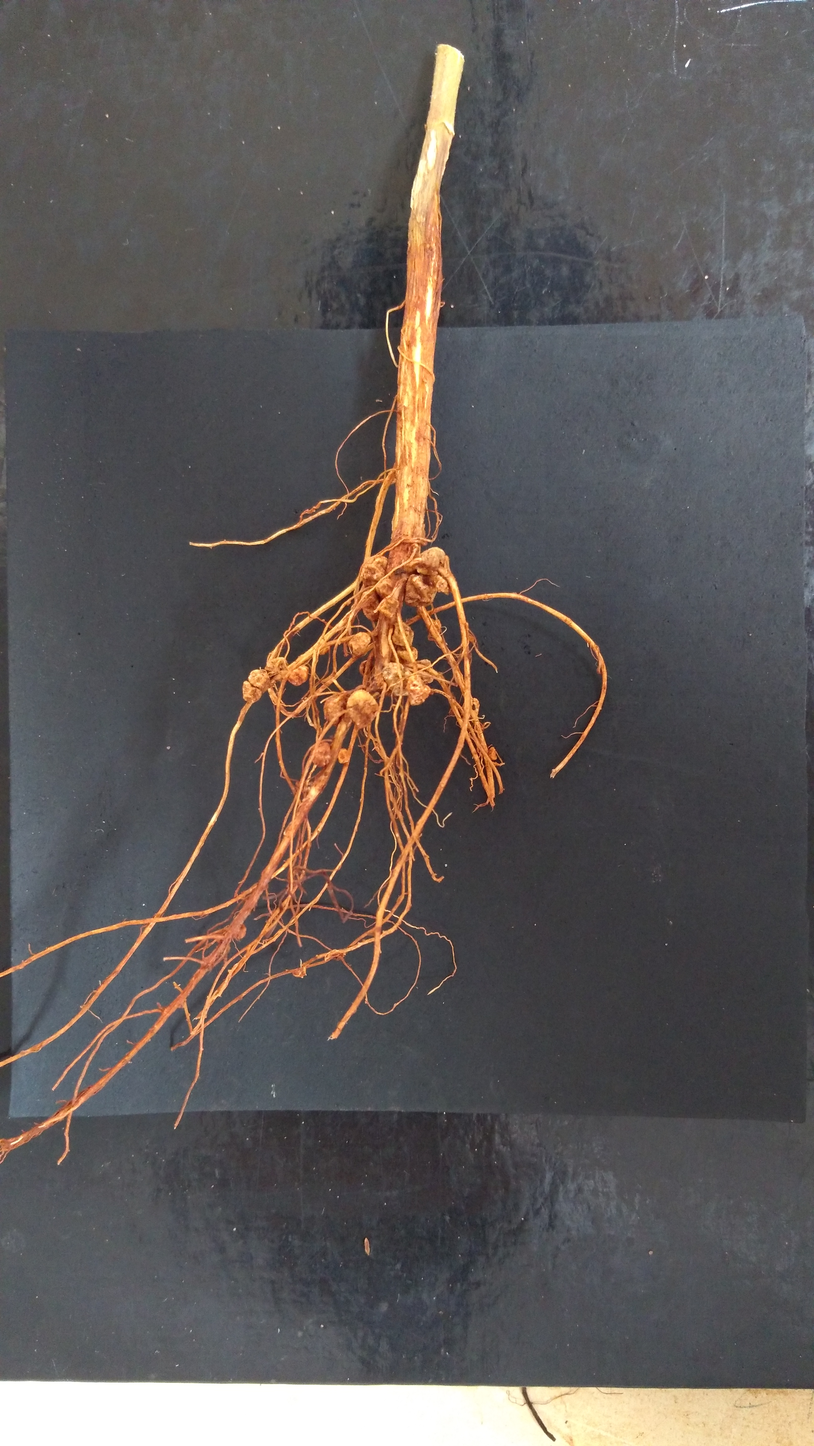nodule: (346, 690, 378, 729), (404, 574, 436, 607), (242, 669, 271, 703), (415, 547, 445, 576), (360, 555, 387, 587), (403, 659, 434, 685), (407, 674, 430, 706), (323, 695, 346, 727), (382, 662, 404, 691), (361, 589, 379, 622), (347, 632, 370, 656), (392, 622, 414, 647), (310, 742, 331, 768), (264, 657, 288, 676), (288, 665, 309, 686), (379, 598, 399, 618), (431, 574, 449, 596), (375, 578, 394, 598), (462, 698, 480, 718), (427, 618, 441, 641), (402, 557, 422, 573), (392, 677, 408, 696), (397, 647, 417, 662), (314, 639, 330, 655), (359, 660, 375, 676), (275, 658, 289, 676), (324, 949, 340, 962), (338, 748, 350, 764), (391, 559, 403, 575), (292, 967, 306, 978), (237, 924, 247, 939), (487, 747, 497, 760), (388, 470, 396, 484), (351, 603, 358, 614), (563, 616, 572, 624), (449, 706, 455, 716), (295, 780, 301, 790), (372, 628, 378, 636), (468, 636, 475, 642), (465, 622, 469, 631), (346, 600, 351, 606), (484, 593, 488, 600)
